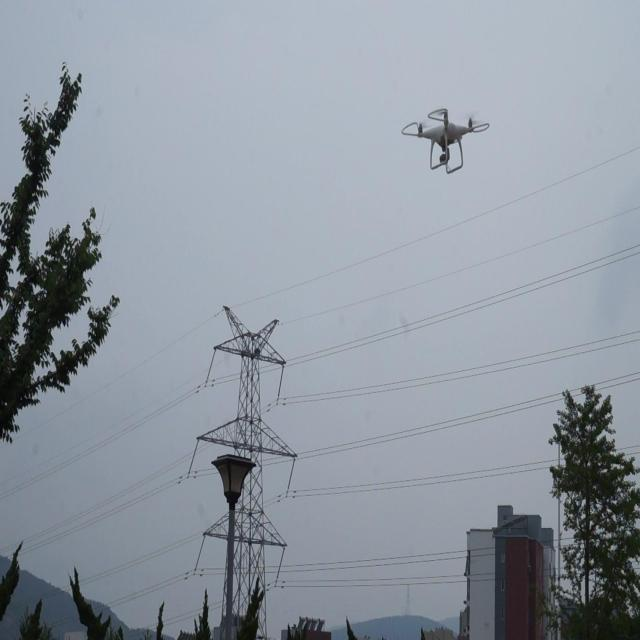drone: (398, 103, 493, 184)
